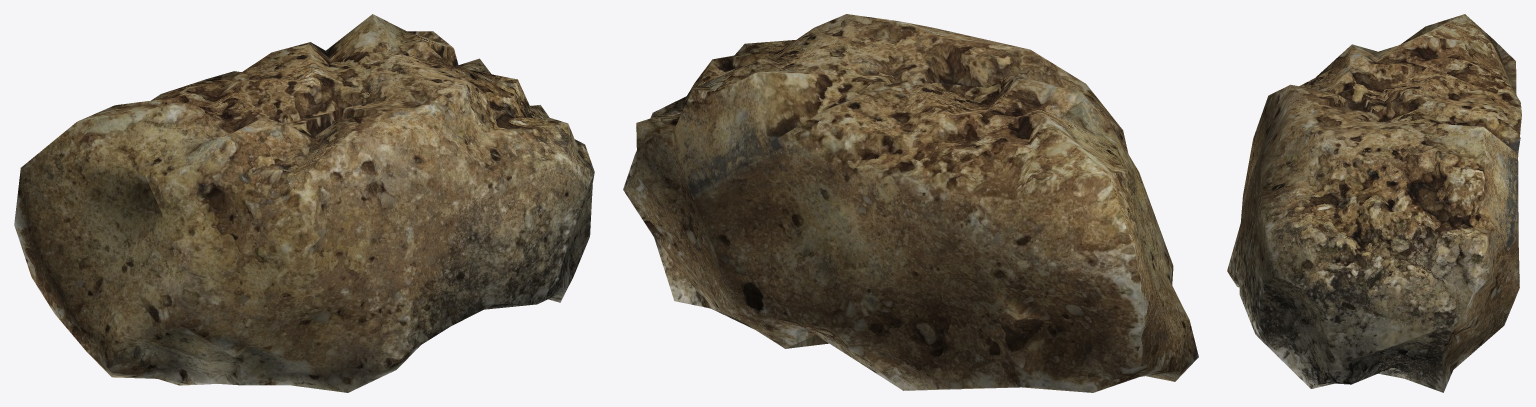
Rendered from RocaB.fbx.
3 views of the same model, side by side, from view 1: azimuth 30°, elevation 25°; view 2: azimuth 150°, elevation 25°; view 3: azimuth 270°, elevation 25° (orthographic). The views are drawn at different scales.
Parts seen in each view (by area): view 1: RocaB; view 2: RocaB; view 3: RocaB.
Boxes of the visible parts, box(x1,y1,x2,y2) form: RocaB: box(14, 14, 594, 392); RocaB: box(623, 14, 1198, 392); RocaB: box(1227, 14, 1521, 392).
Bounding box in the file's own units: 37.26 × 18.78 × 21.35.
1 material, 1 textured.
